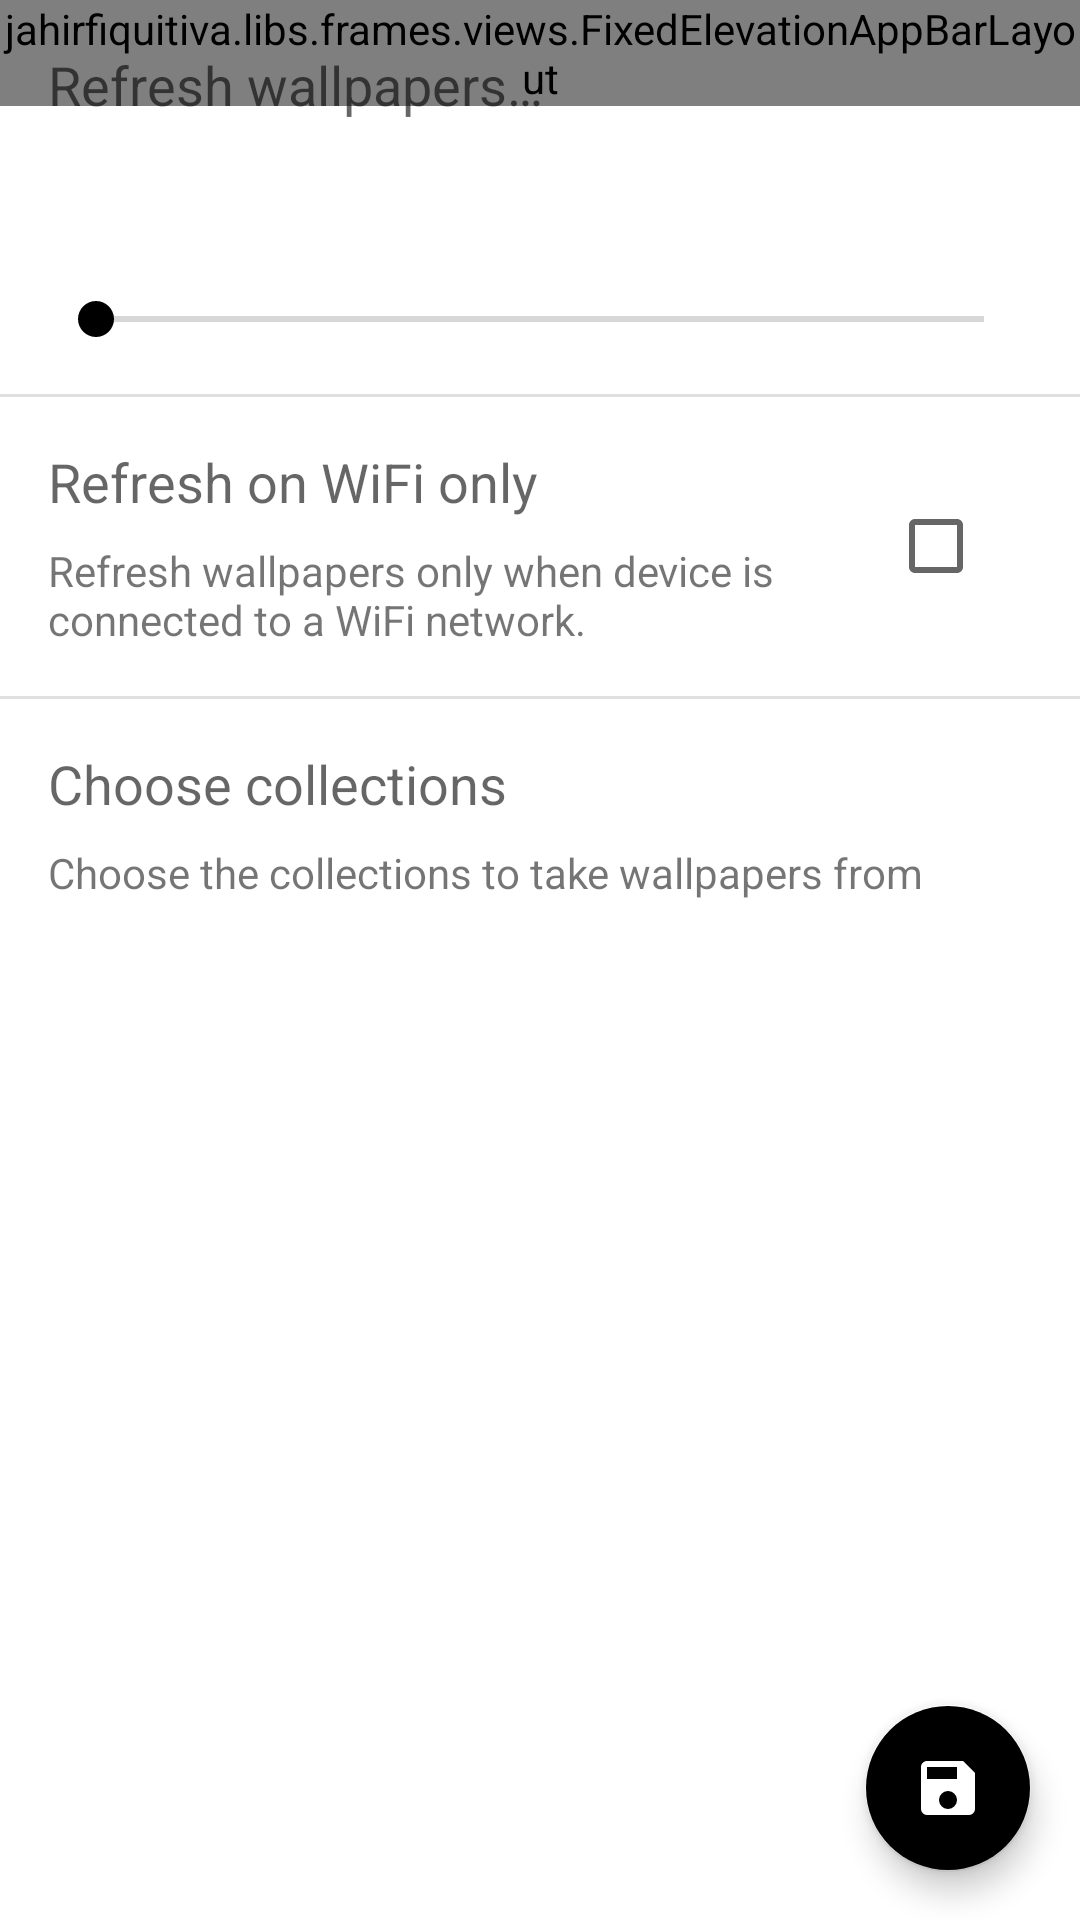

Where to tap for icons on this 1080×1920 app screen, as (x,y):
save: (949,1789)
